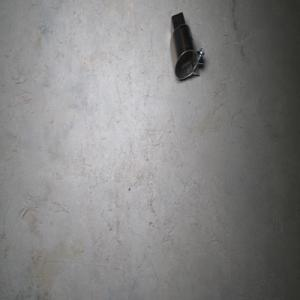MetalPart: (169, 11, 204, 80)
